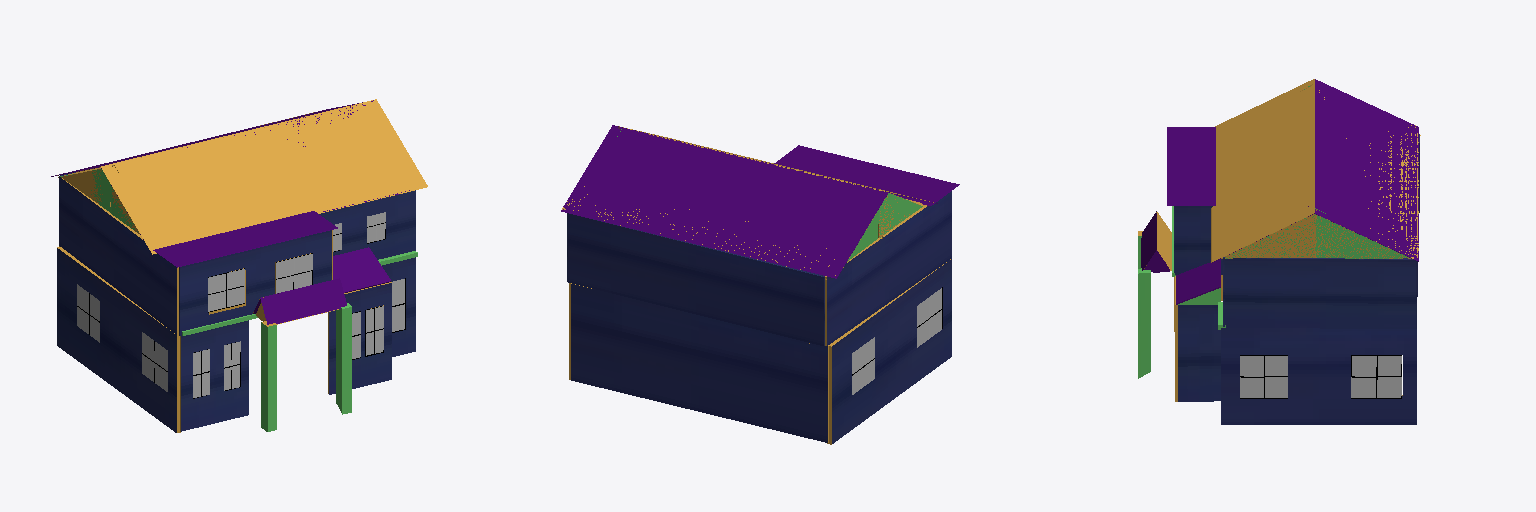
3 views of the same model, side by side, from view 1: azimuth 30°, elevation 25°; view 2: azimuth 150°, elevation 25°; view 3: azimuth 270°, elevation 25° (orthographic).
Parts seen in each view (by area): view 1: pCube33, pCube9, pCube20, pCube16, pCube6, pCube26, pCube18, pCube8, pCube23, pCube10, pCube43, pCube42 (+11 smaller); view 2: pCube36, pCube15, pCube17, pCube9, pCube20, pCube26, pCube51, pCube52, pCube31; view 3: pCube4, pCube33, pCube19, pCube36, pCube1, pCube26, pCube5, pCube50, pCube54, pCube38, pCube39, pCube42 (+4 smaller).
Part boxes in pixels (x1,y1,x2,y2): pCube33: (101, 99, 427, 254); pCube9: (57, 247, 180, 432); pCube20: (59, 176, 178, 334); pCube16: (179, 230, 331, 335); pCube6: (180, 320, 248, 431); pCube26: (153, 211, 337, 267); pCube18: (319, 190, 415, 259); pCube8: (328, 282, 391, 394); pCube23: (260, 278, 346, 324); pCube10: (333, 247, 390, 292); pCube43: (261, 321, 276, 431); pCube42: (336, 303, 351, 414); pCube36: (561, 125, 888, 278); pCube15: (571, 283, 828, 442); pCube17: (568, 213, 824, 345); pCube9: (827, 259, 951, 444); pCube20: (825, 191, 951, 345); pCube26: (774, 145, 959, 205); pCube51: (917, 287, 942, 347); pCube52: (852, 337, 874, 394); pCube31: (879, 193, 924, 237); pCube4: (1221, 328, 1416, 424); pCube33: (1211, 79, 1314, 262); pCube19: (1225, 258, 1416, 328); pCube36: (1315, 79, 1418, 261); pCube1: (1178, 305, 1220, 401); pCube26: (1167, 127, 1215, 205); pCube5: (1175, 206, 1222, 274); pCube50: (1351, 355, 1401, 398); pCube54: (1240, 355, 1287, 398); pCube38: (1221, 209, 1316, 258); pCube39: (1315, 208, 1408, 258); pCube42: (1138, 268, 1150, 378).
Bounding box in the file's own units: 24.74 × 18.95 × 22.01.
Materials: 6 (5 with a texture image).